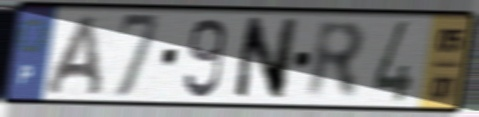4: (369, 18, 417, 107)
7: (115, 10, 160, 103)
9: (183, 16, 229, 99)
A: (41, 12, 105, 98)
N: (230, 15, 302, 103)
R: (305, 18, 368, 103)
